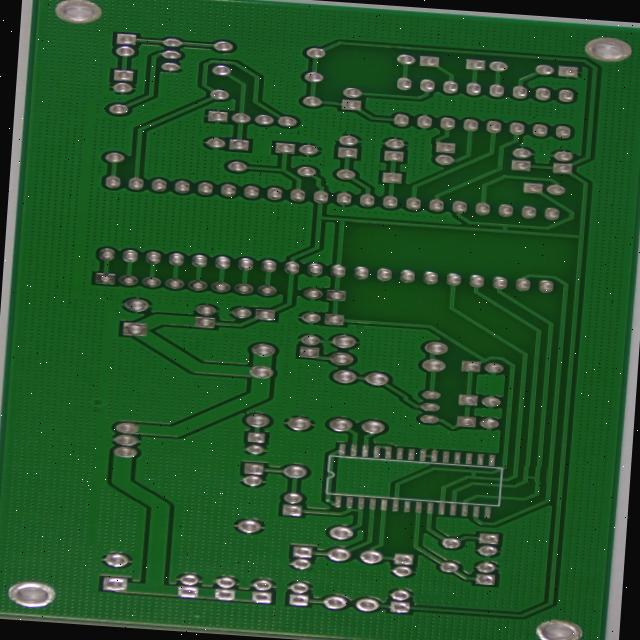short: (556, 207, 585, 225), (521, 464, 548, 482), (590, 468, 616, 483), (391, 503, 409, 512)
